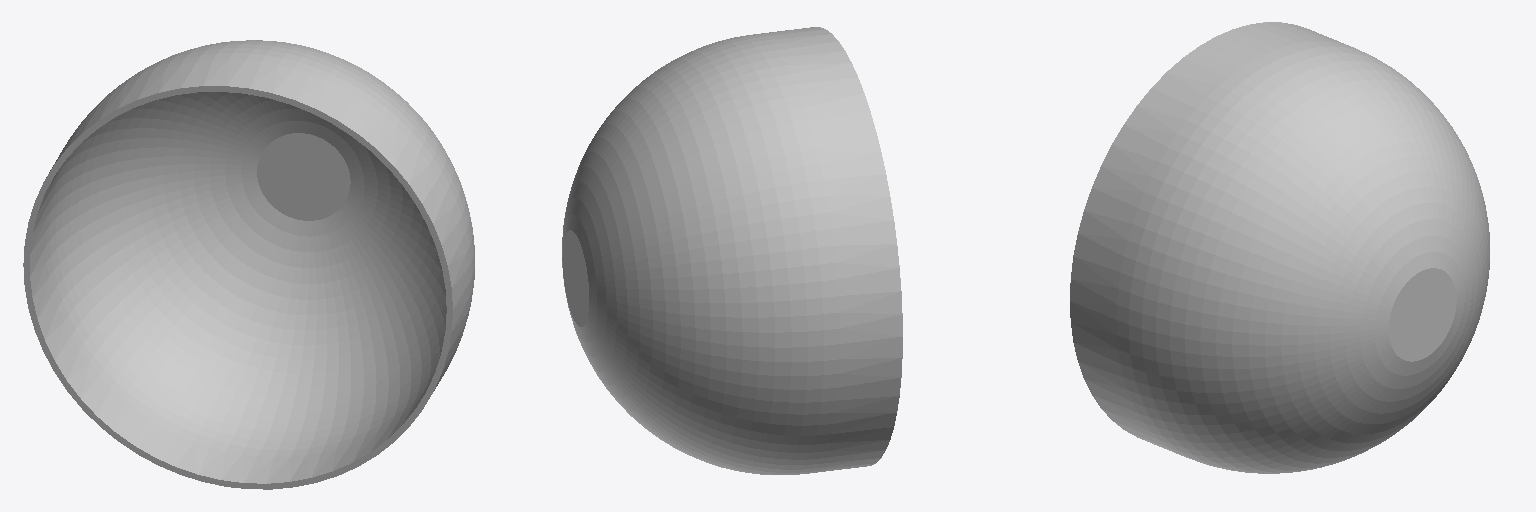
File: 反光杯.obj
3 renders of one model, left to right at view 1: azimuth 30°, elevation 25°; view 2: azimuth 150°, elevation 25°; view 3: azimuth 270°, elevation 25°, orthographic.
Parts seen in each view (by area): view 1: _______Model__1__________________Model__1_________1; view 2: _______Model__1__________________Model__1_________1; view 3: _______Model__1__________________Model__1_________1.
Boxes of the visible parts, <box> form: _______Model__1__________________Model__1_________1: <box>23,40,474,489</box>; _______Model__1__________________Model__1_________1: <box>562,27,902,474</box>; _______Model__1__________________Model__1_________1: <box>1070,22,1489,473</box>.
Bounding box in the file's own units: 130 × 136 × 129.